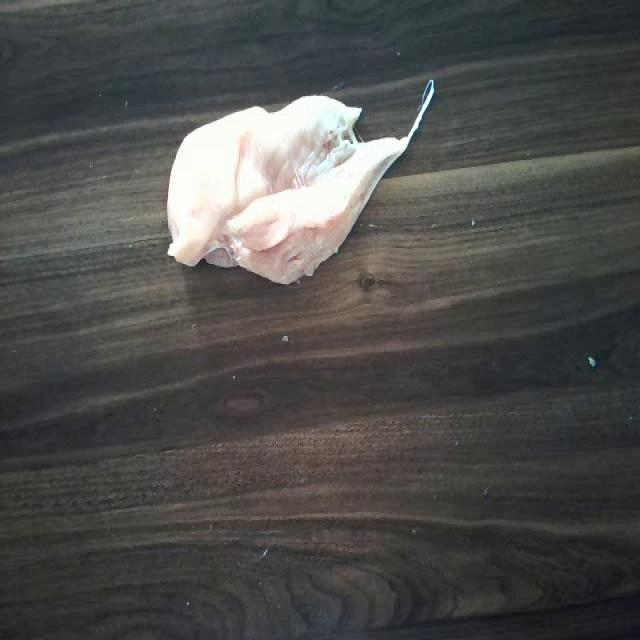breast: (156, 78, 414, 292)
